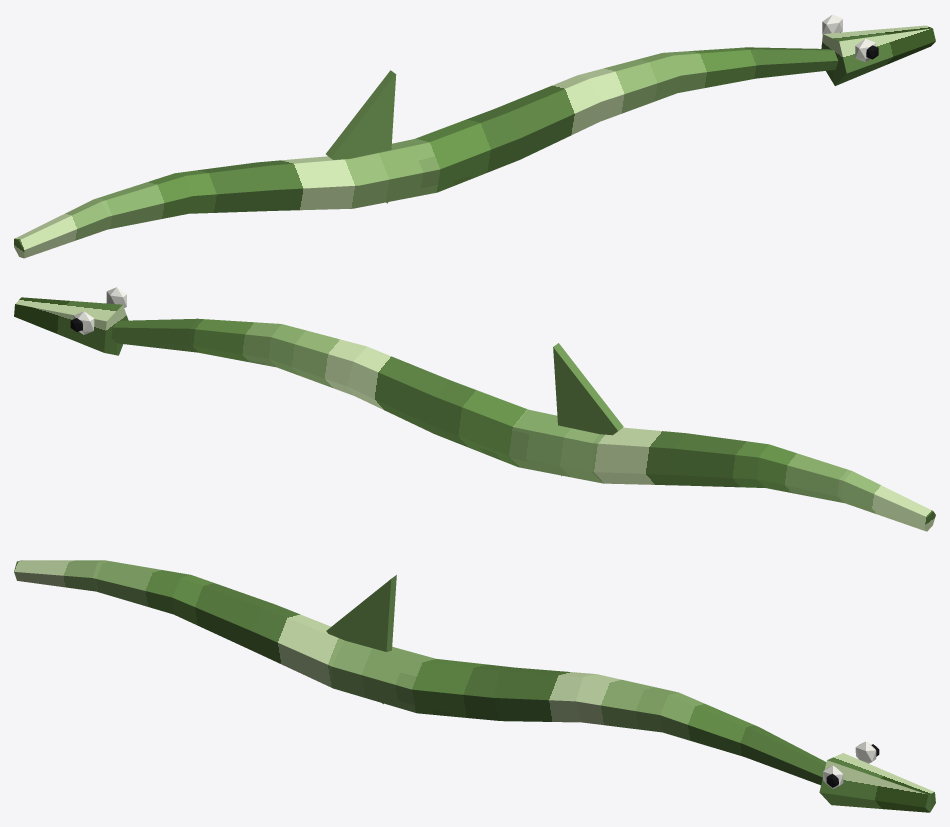
Rendered from seagrass_pipefish.glb.
The picture shows the model from 3 angles, top to bottom: view 1: azimuth 30°, elevation 25°; view 2: azimuth 150°, elevation 25°; view 3: azimuth 330°, elevation 25°; orthographic projection.
Parts seen in each view (by area): view 1: fish_seagrass_pipefish; view 2: fish_seagrass_pipefish; view 3: fish_seagrass_pipefish.
Boxes of the visible parts, box(x1,y1,x2,y2) form: fish_seagrass_pipefish: box(14, 14, 935, 258); fish_seagrass_pipefish: box(14, 287, 935, 531); fish_seagrass_pipefish: box(14, 560, 935, 812).
Size of the model in its own units: 1.12 by 0.15 by 0.0946.
4 materials, 1 textured.
